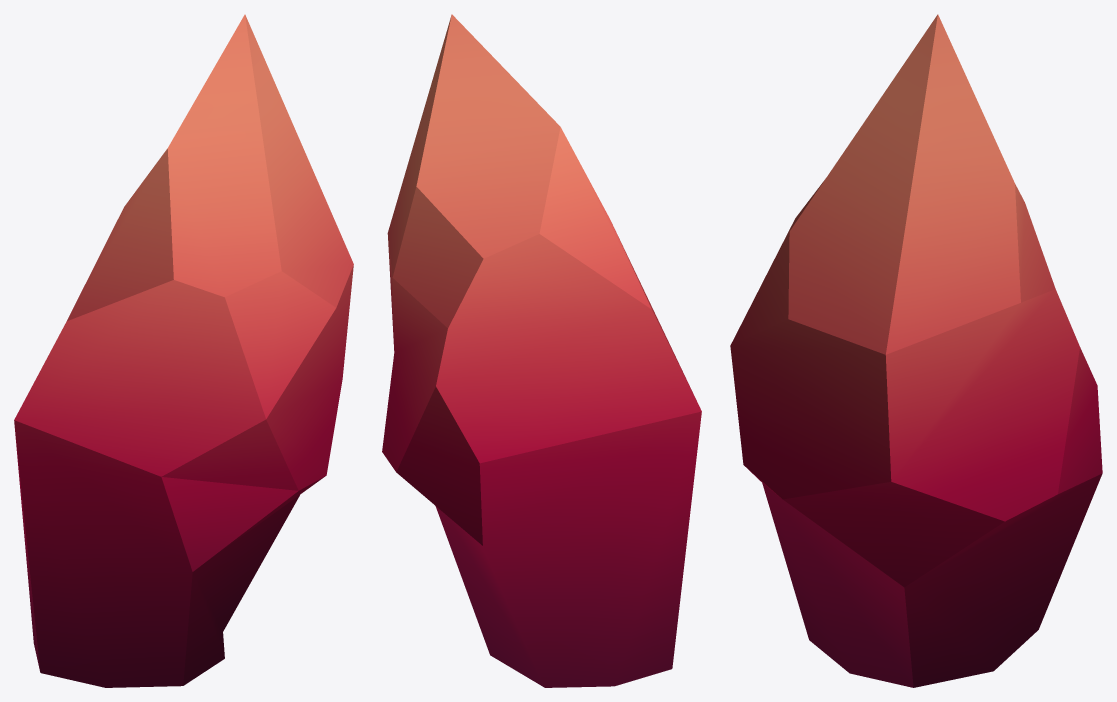
File: crystal_1.001.fbx
3 renders of one model, left to right at view 1: azimuth 30°, elevation 25°; view 2: azimuth 150°, elevation 25°; view 3: azimuth 270°, elevation 25°, orthographic. The views are drawn at different scales.
Parts seen in each view (by area): view 1: crystal_1.001; view 2: crystal_1.001; view 3: crystal_1.001.
Boxes of the visible parts, box(x1,y1,x2,y2) form: crystal_1.001: box(14, 14, 353, 687); crystal_1.001: box(382, 14, 701, 687); crystal_1.001: box(730, 14, 1102, 687).
Size of the model in its own units: 0.2387 by 0.422 by 0.2057.
